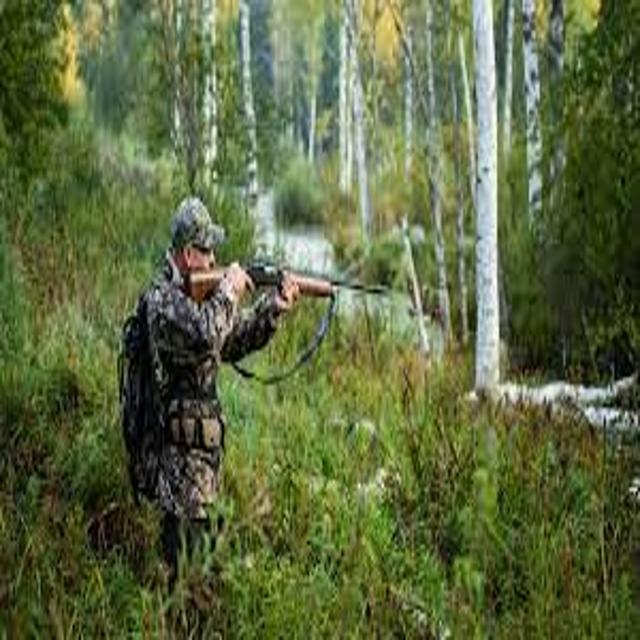backpack: (98, 281, 197, 528)
gun: (154, 230, 402, 362)
ranger: (92, 182, 415, 636)
